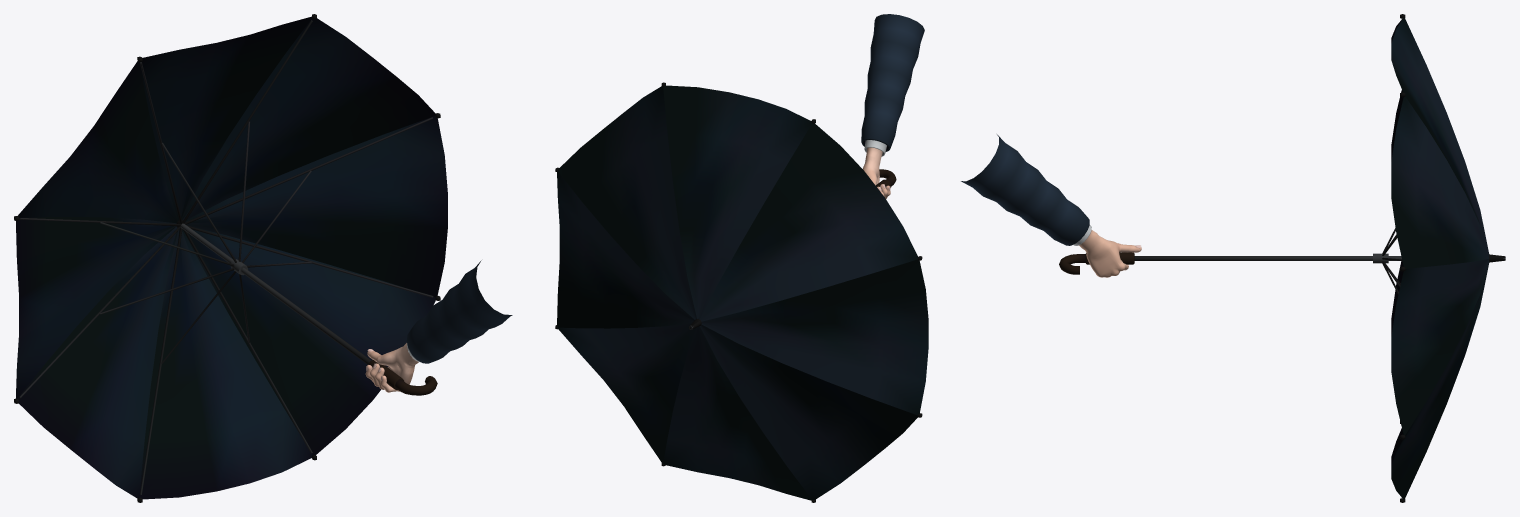
The model's file is brolly_R.glb.
3 views of the same model, side by side, from view 1: azimuth 30°, elevation 25°; view 2: azimuth 150°, elevation 25°; view 3: azimuth 270°, elevation 25° (orthographic). The views are drawn at different scales.
Parts seen in each view (by area): view 1: hand_brolly_R_m1, hand_brolly_R_m0; view 2: hand_brolly_R_m1, hand_brolly_R_m0; view 3: hand_brolly_R_m1, hand_brolly_R_m0.
Part boxes in pixels (<box>): hand_brolly_R_m1: <box>14,14,447,502</box>; hand_brolly_R_m0: <box>365,260,512,392</box>; hand_brolly_R_m1: <box>555,82,928,502</box>; hand_brolly_R_m0: <box>861,14,924,198</box>; hand_brolly_R_m1: <box>1059,14,1505,502</box>; hand_brolly_R_m0: <box>961,134,1141,277</box>.
Size of the model in its own units: 1.17 by 1.17 by 1.4.
